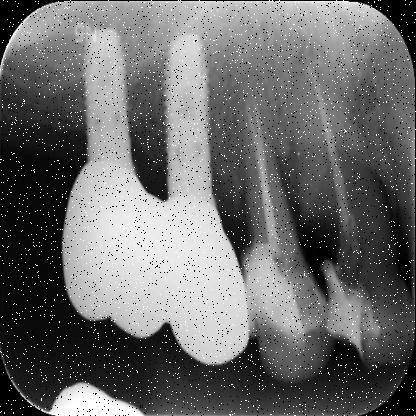ITI: (163, 32, 217, 200), (78, 20, 135, 164)
